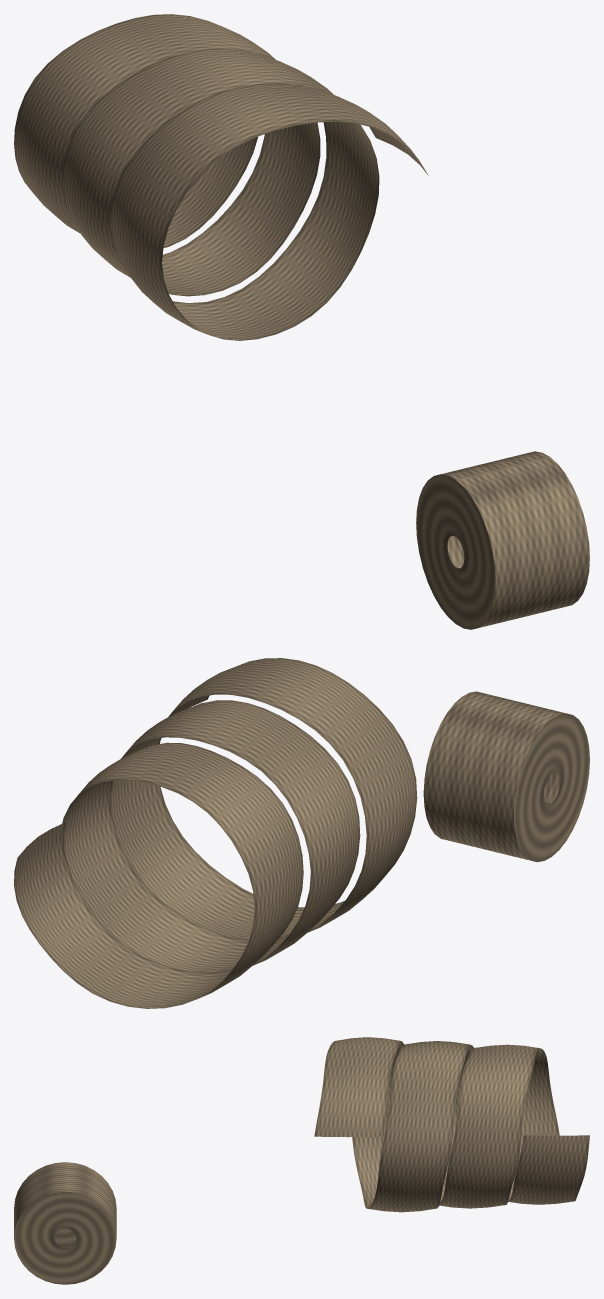
The model's file is bandage.glb.
The picture shows the model from 3 angles, top to bottom: view 1: azimuth 30°, elevation 25°; view 2: azimuth 150°, elevation 25°; view 3: azimuth 270°, elevation 25°; orthographic projection. The views are drawn at different scales.
Visible parts, largest first — view 1: Bandage_wrap, Bandage_roll, Bandage_cap; view 2: Bandage_wrap, Bandage_roll, Bandage_cap; view 3: Bandage_wrap, Bandage_cap, Bandage_roll.
Part boxes in pixels (x1=…): Bandage_wrap: x1=14, y1=14, x2=428, y2=340; Bandage_roll: x1=441, y1=451, x2=589, y2=627; Bandage_cap: x1=416, y1=474, x2=495, y2=629; Bandage_wrap: x1=14, y1=658, x2=417, y2=1008; Bandage_roll: x1=423, y1=691, x2=566, y2=860; Bandage_cap: x1=514, y1=713, x2=589, y2=862; Bandage_wrap: x1=314, y1=1037, x2=589, y2=1212; Bandage_cap: x1=14, y1=1191, x2=116, y2=1284; Bandage_roll: x1=14, y1=1162, x2=116, y2=1236.
Bounding box in the file's own units: 0.0701 × 0.0906 × 0.2133.
2 materials, 2 textured.
